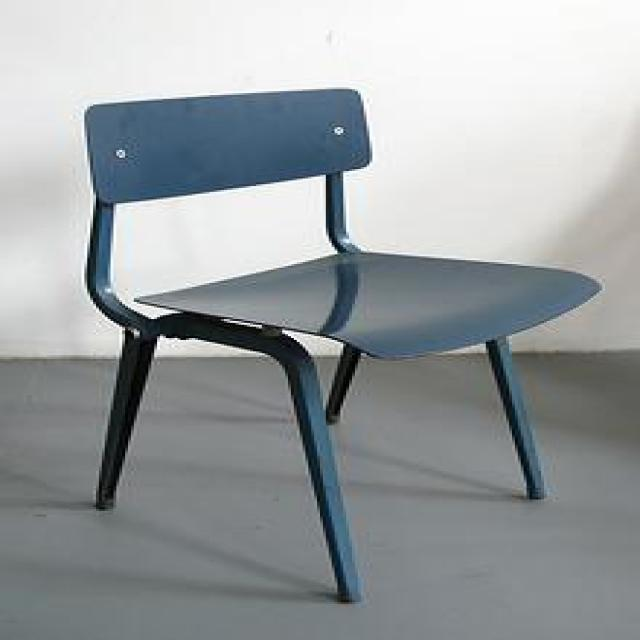chair: (82, 85, 602, 602)
